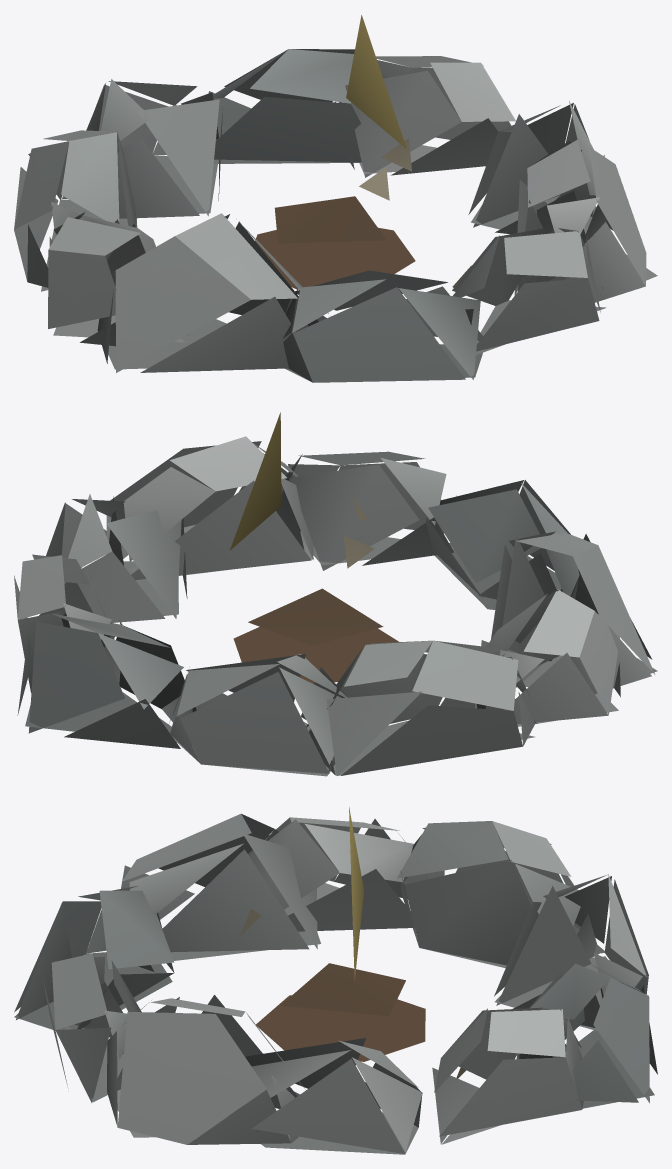
Rendered from campfire.lod.glb.
3 views of the same model, one above another, from view 1: azimuth 30°, elevation 25°; view 2: azimuth 150°, elevation 25°; view 3: azimuth 270°, elevation 25° (orthographic). The views are drawn at different scales.
Visible parts, largest first — view 1: campfire.001; view 2: campfire.001; view 3: campfire.001.
Boxes of the visible parts, x1=… form: campfire.001: x1=14, y1=15, x2=657, y2=382; campfire.001: x1=14, y1=412, x2=657, y2=776; campfire.001: x1=14, y1=807, x2=657, y2=1154.
Bounding box in the file's own units: 1.05 × 0.44 × 1.04.
